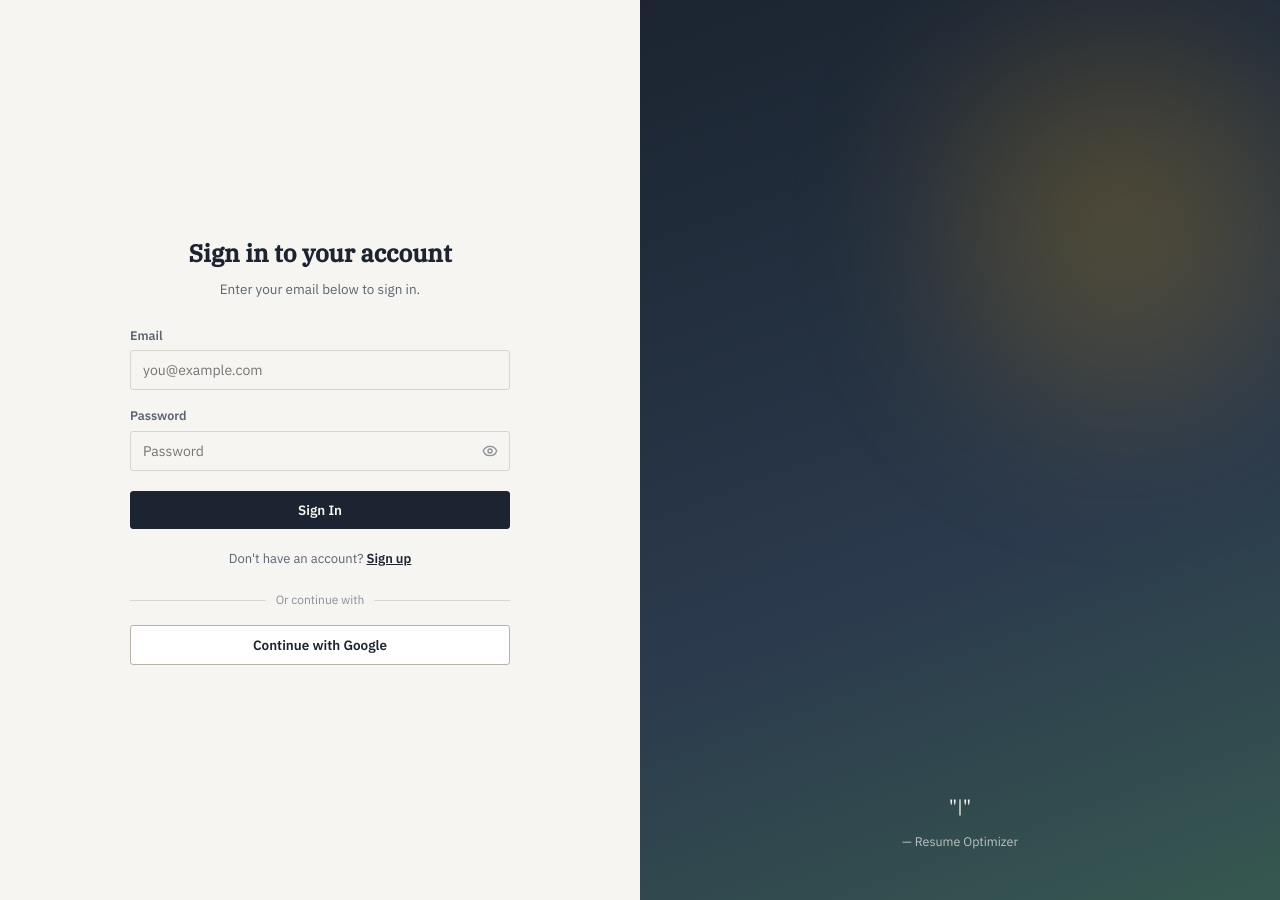
Test: AuthPage post-sign-in destination › keeps the destination when the visitor switches to sign-up first
Step 1. Click the link "Sign up" → [389, 559], box [366, 550, 411, 567]
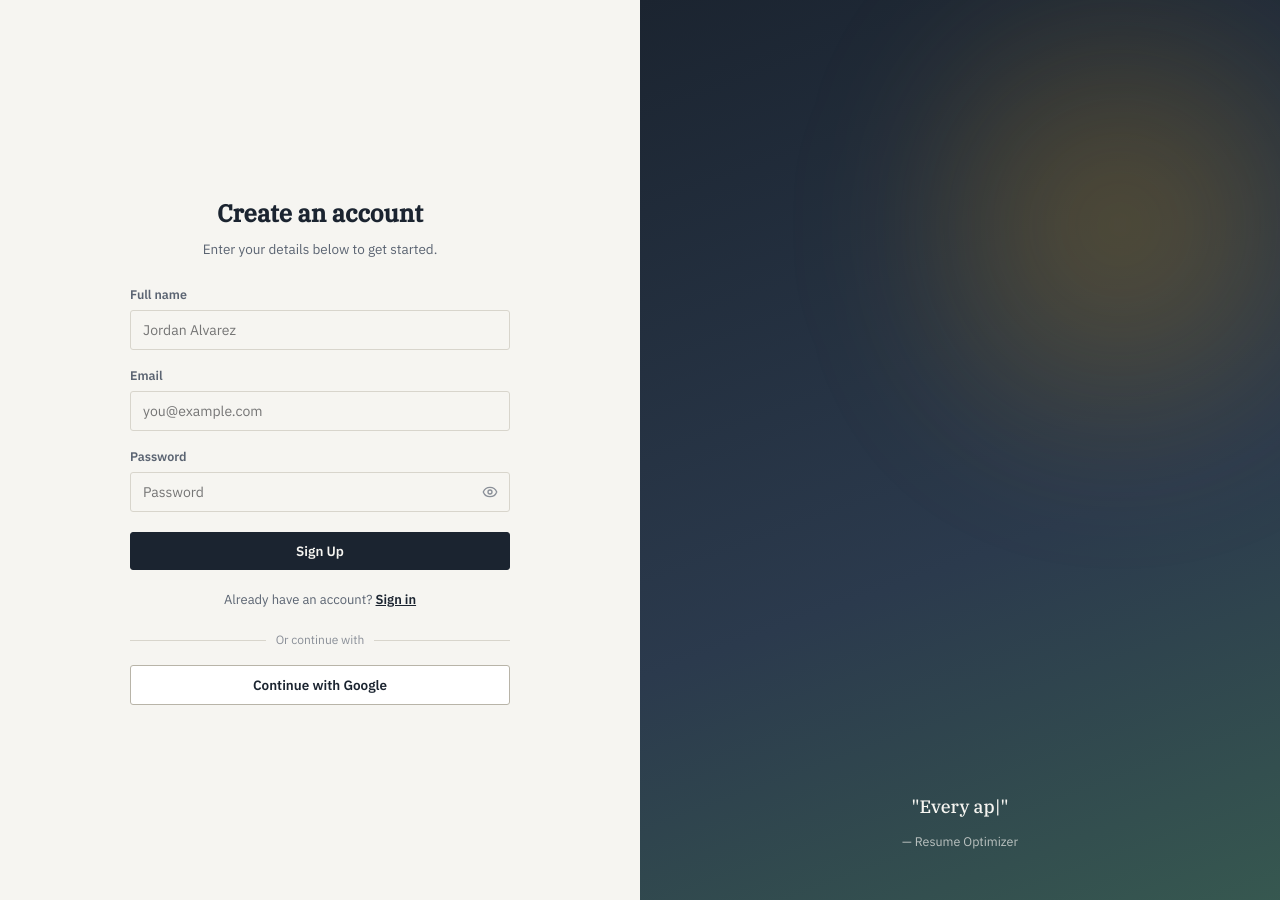
expect the heading "Create an account" is shown: met, box [217, 197, 423, 229]
expect the link "Sign in" is shown: met, box [376, 590, 416, 608]
